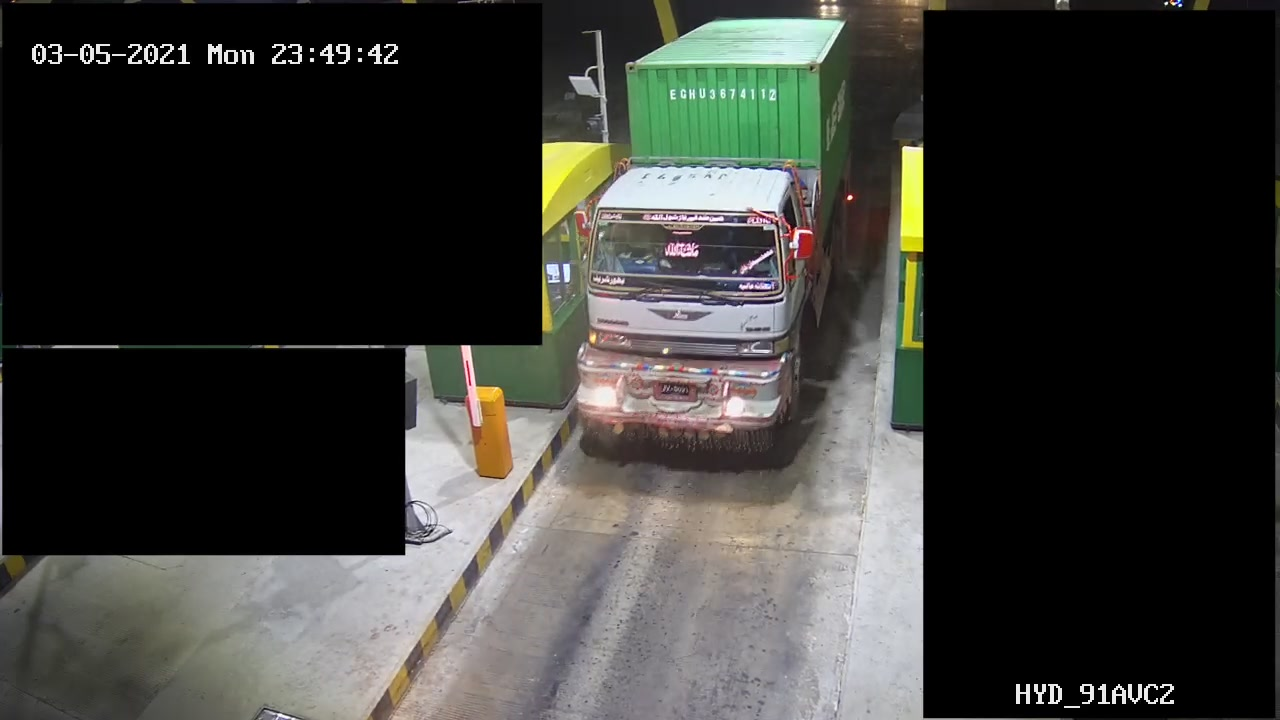F6: (572, 8, 856, 474)
